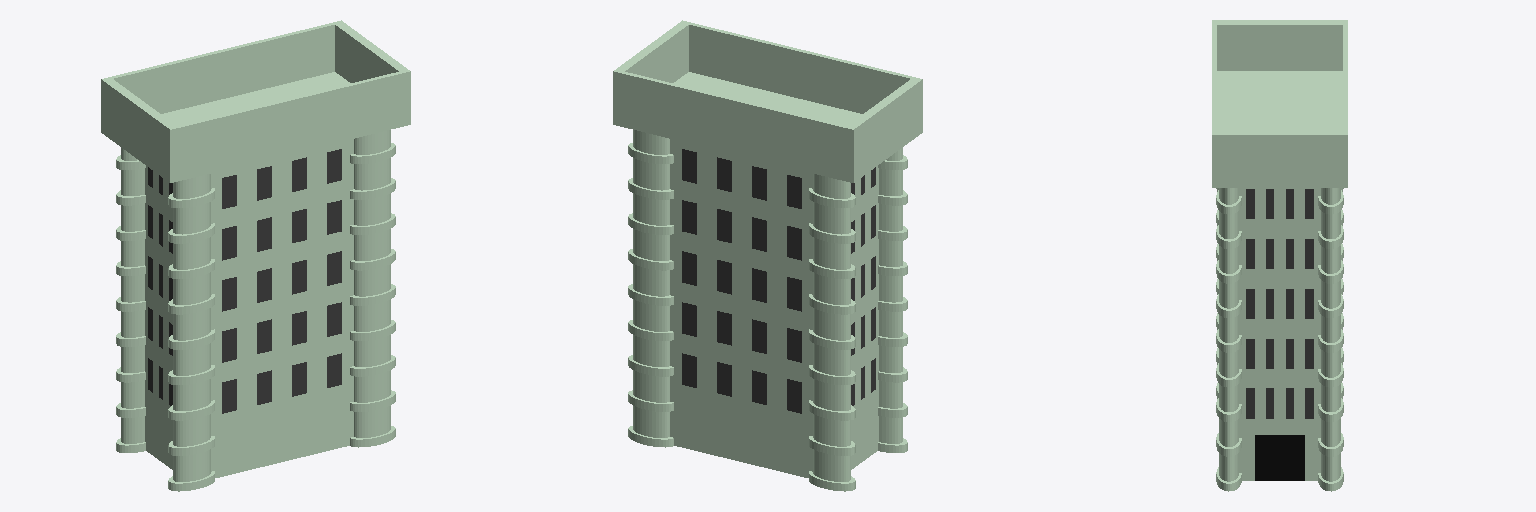
URDF robot description (building_3):
<?xml version="1.0"?> 

<!-- Copyright 2023 [author] -->

<!-- Licensed under the Apache License, Version 2.0 (the "License"); -->
<!-- you may not use this file except in compliance with the License. -->
<!-- You may obtain a copy of the License at -->

<!--     http://www.apache.org/licenses/LICENSE-2.0 -->

<!-- Unless required by applicable law or agreed to in writing, software -->
<!-- distributed under the License is distributed on an "AS IS" BASIS, -->
<!-- WITHOUT WARRANTIES OR CONDITIONS OF ANY KIND, either express or implied. -->
<!-- See the License for the specific language governing permissions and -->
<!-- limitations under the License. -->

<!-- Authors: [author], [author] -->

<robot name="building_3">
    <link name="building_3">
        <visual>
            <origin xyz="0 0 0" rpy="0 0 0" />
            <geometry>
                <mesh filename='meshes/building_3.stl' scale='0.15 0.075 0.15' />
            </geometry>
            <material name="greyblue">
                <color rgba="0.8 0.9 0.8 1"/>
            </material>
        </visual>
        <collision>
            <origin xyz="0 0 0" rpy="0 0 0" />
            <geometry>
                <mesh filename='meshes/building_3.stl' scale='0.15 0.075 0.15' />
            </geometry>
        </collision>
        <inertial>
            <mass value="10"/>
            <inertia ixx="0.4" ixy="0.0" ixz="0.0" iyy="0.4" iyz="0.0" izz="0.2" />
        </inertial>
    </link>
    <link name="windows">
        <visual>
            <origin xyz="0 0 0" rpy="0 0 0" />
            <geometry>
                <mesh filename='meshes/building_3windows.stl' scale='0.15 0.075 0.15'/>
            </geometry>
            <material name="black">
                <color rgba="0.3 0.3 0.3 1"/>
            </material>
        </visual>
        <collision>
            <origin xyz="0 0 0" rpy="0 0 0" />
            <geometry>
                <mesh filename='meshes/building_3windows.stl' scale='0.15 0.075 0.15'/>
            </geometry>
        </collision>
        <inertial>
            <mass value="10"/>
            <inertia ixx="0.4" ixy="0.0" ixz="0.0" iyy="0.4" iyz="0.0" izz="0.2" />
        </inertial>
    </link>
    <joint name="window" type="fixed">
        <origin rpy="0 0 0" xyz="0 0 0"/>
        <parent link="building_3"/>
        <child link="windows"/>
    </joint>
    <link name="doors">
        <visual>
            <origin xyz="0 0 0" rpy="0 0 0" />
            <geometry>
                <mesh filename='meshes/building_3door.stl' scale='0.075 0.15 0.15'/>
            </geometry>
            <material name="black">
                <color rgba="0.1 0.1 0.1 1"/>
            </material>
        </visual>
        <collision>
            <origin xyz="0 0 0" rpy="0 0 0" />
            <geometry>
                <mesh filename='meshes/building_3door.stl' scale='0.075 0.15 0.15'/>
            </geometry>
        </collision>
        <inertial>
            <mass value="10"/>
            <inertia ixx="0.4" ixy="0.0" ixz="0.0" iyy="0.4" iyz="0.0" izz="0.2" />
        </inertial>
    </link>
    <joint name="door" type="fixed">
        <origin rpy="0 0 1.571" xyz="0 0 0"/>
        <parent link="building_3"/>
        <child link="doors"/>
        <axis xyz="-1 0 0"/>
    </joint>
</robot>

--- Facts derived from the render (not from the file) ---
3 views of the same robot in one strip: view 1: azimuth 30°, elevation 25°; view 2: azimuth 150°, elevation 25°; view 3: azimuth 270°, elevation 25° (orthographic).
Robot: building_3 — 3 links, 2 joints (2 fixed); root link building_3; default pose: every joint at zero.
Links seen in each view (by area): view 1: building_3, windows; view 2: building_3, windows; view 3: building_3, windows, doors.
Link boxes in pixels (<box>): building_3: <box>101,20,410,491</box>; windows: <box>148,149,341,413</box>; building_3: <box>613,20,922,491</box>; windows: <box>682,149,875,413</box>; building_3: <box>1212,20,1347,491</box>; windows: <box>1246,189,1313,418</box>; doors: <box>1255,435,1304,480</box>.
Size in the robot's own frame: 12 by 6 by 17.55 metres.
3 mesh visuals loaded from 3 distinct referenced files (3 binary STL).
